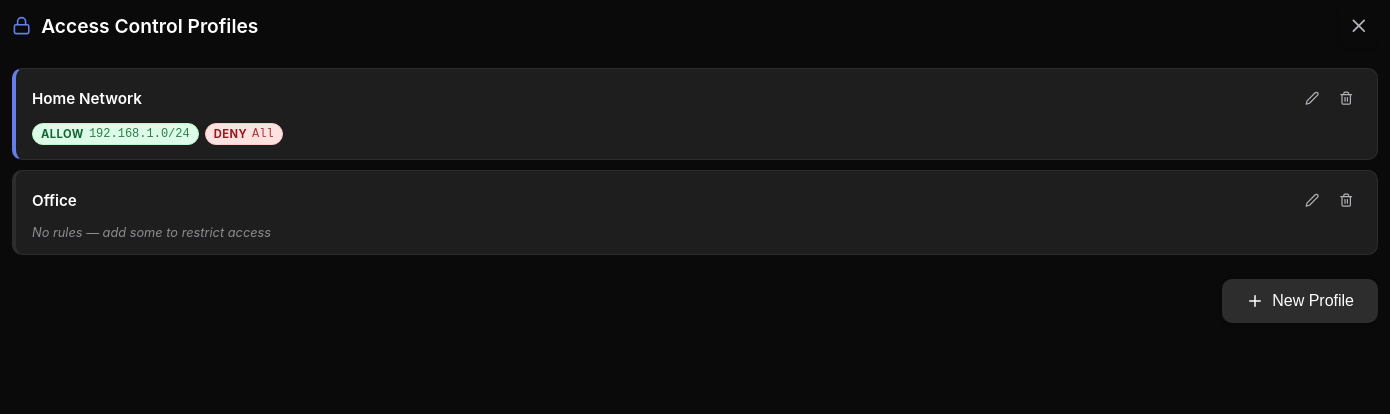
Test case: AclManager — create flow › "New Profile" button opens create form
The width and height of the screenshot is (1390, 414).
Expected: the text "Home Network" is shown, [32, 88, 142, 108]
What coordinates should you click on to do the following:
click the button "New Profile"
I would click on:
 (1300, 301)
Its box is [1222, 279, 1378, 323].
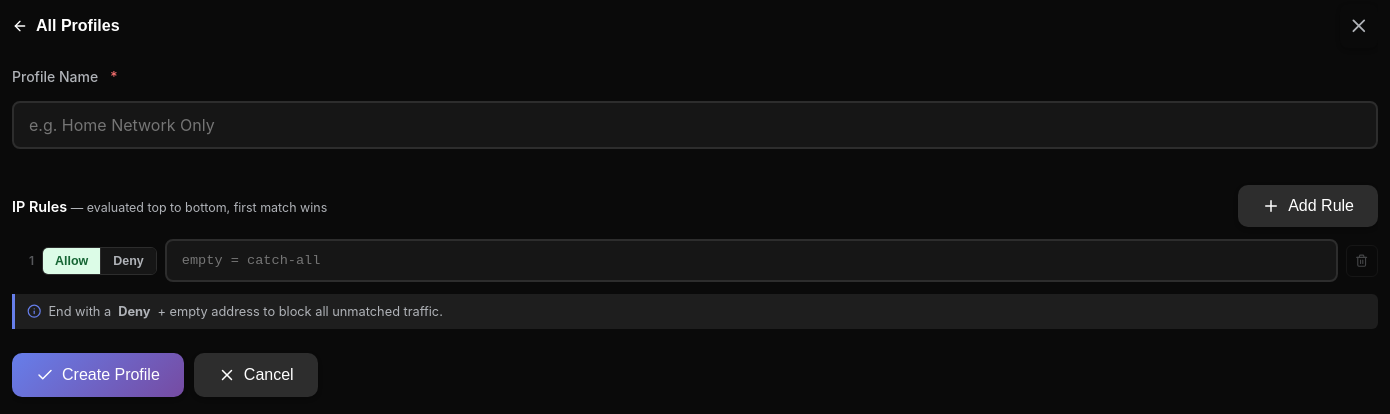
Now the field with placeholder "e.g. Home Network Only" is shown, box [12, 101, 1378, 149]
Now the button "Create Profile" is shown, box [12, 353, 184, 397]
